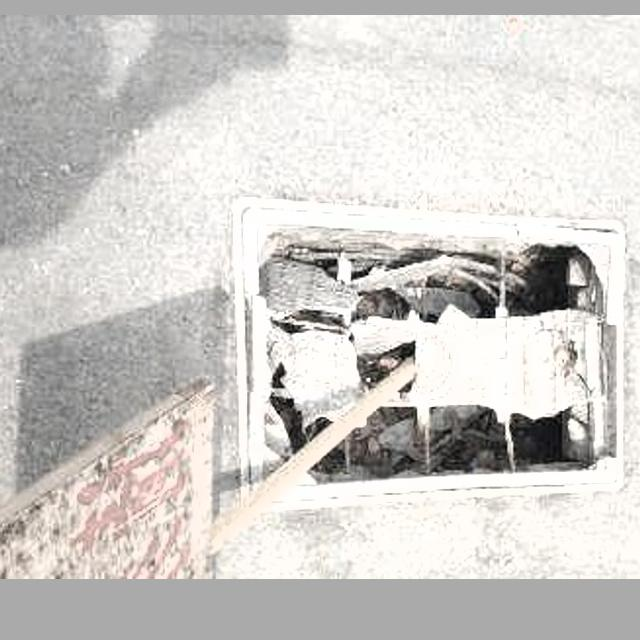broke: (238, 205, 629, 509)
